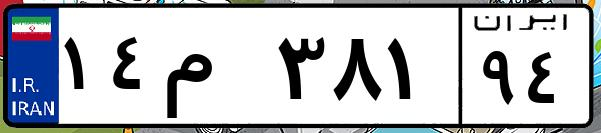1: (385, 28, 445, 110), (57, 26, 110, 100)
3: (270, 28, 330, 110)
4: (525, 38, 570, 115), (110, 28, 158, 98)
8: (330, 28, 385, 110)
9: (475, 38, 525, 113)
م: (158, 20, 270, 120)
